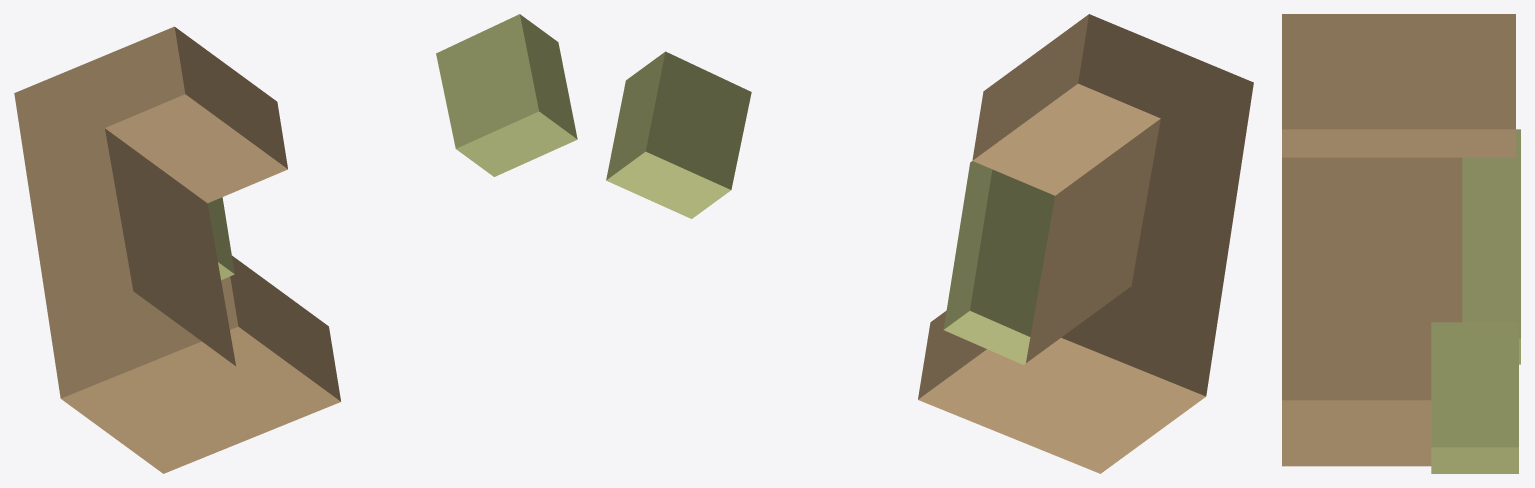
The picture shows the model from 3 angles, left to right: view 1: azimuth 30°, elevation 25°; view 2: azimuth 150°, elevation 25°; view 3: azimuth 270°, elevation 25°; orthographic projection. The views are drawn at different scales.
Parts seen in each view (by area): view 1: 0_0_1_3_2_2_2_1; view 2: 0_0_1_3_2_2_2_1; view 3: 0_0_1_3_2_2_2_1.
Boxes of the visible parts, left/top/right/bottom form: 0_0_1_3_2_2_2_1: left=14, top=14, right=577, bottom=473; 0_0_1_3_2_2_2_1: left=606, top=14, right=1253, bottom=473; 0_0_1_3_2_2_2_1: left=1282, top=14, right=1520, bottom=473.
Bounding box in the file's own units: 70.9 × 44.35 × 24.5.
